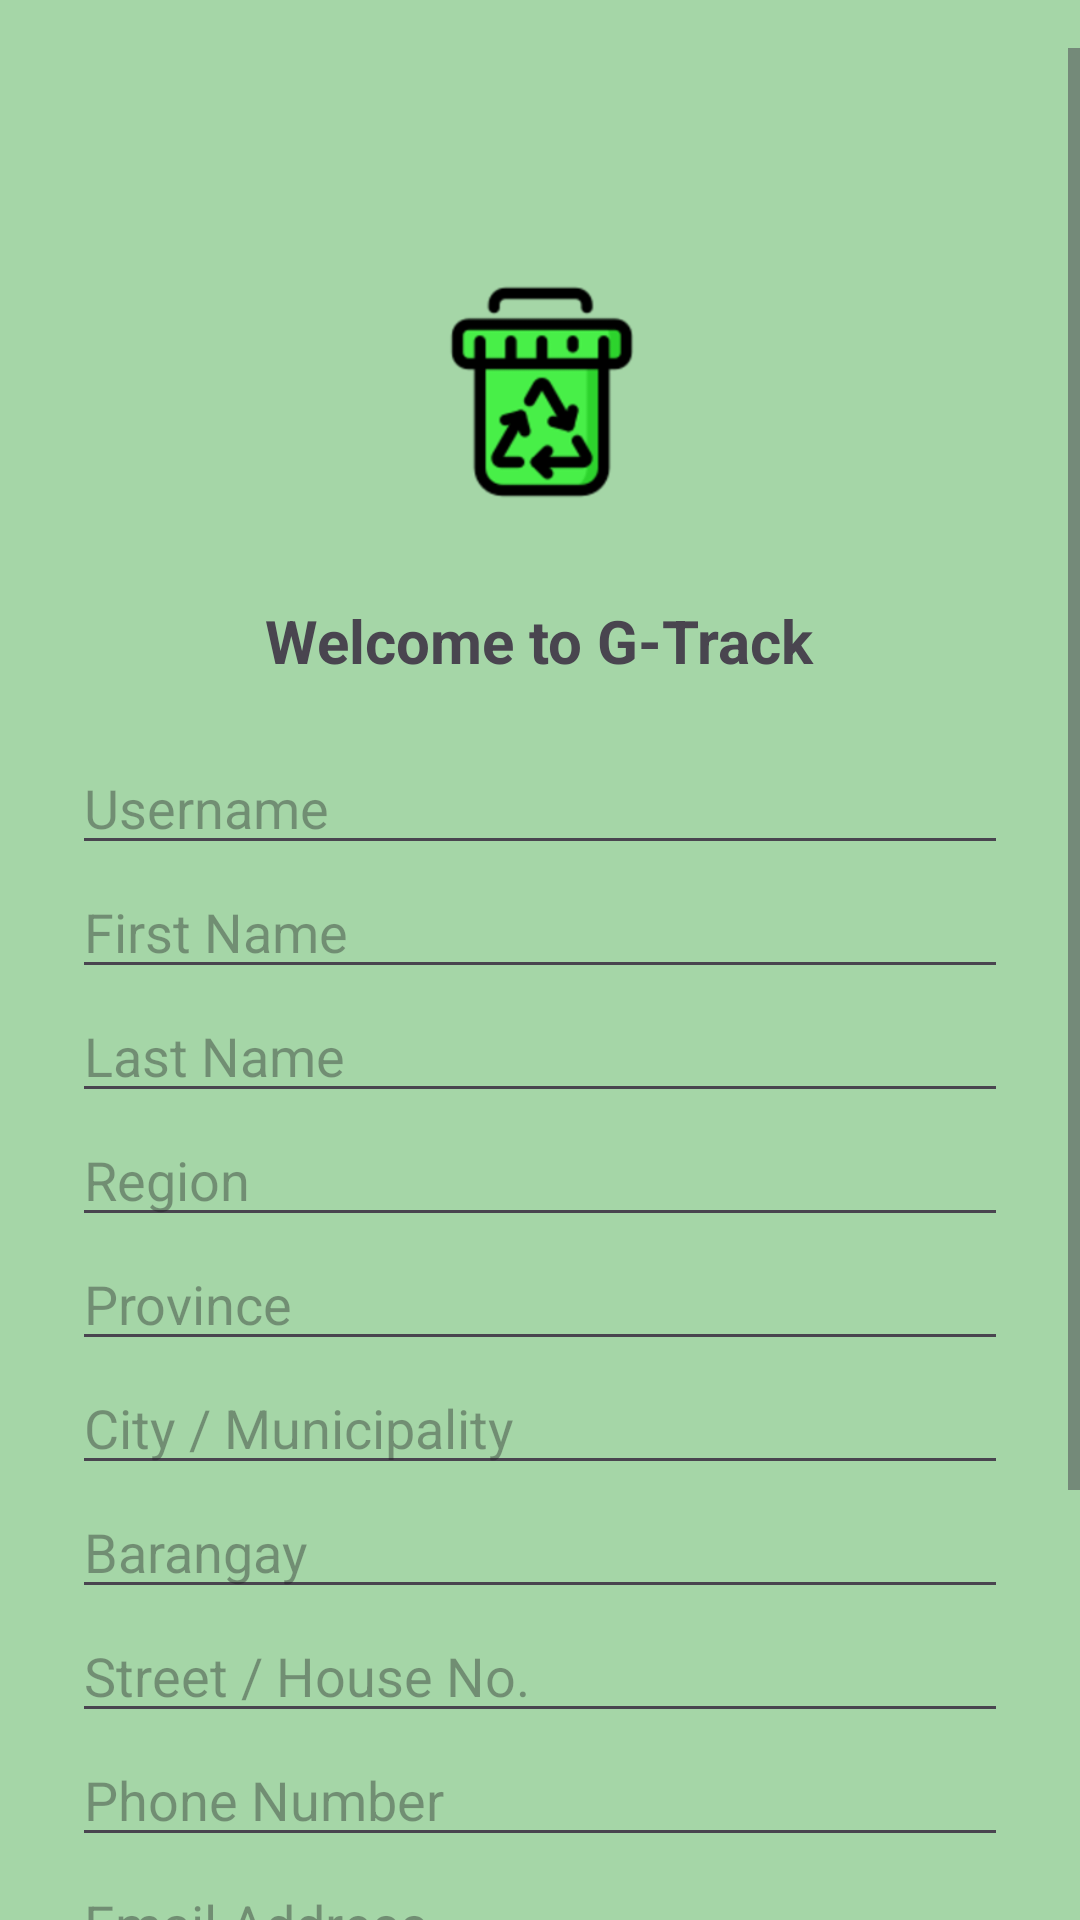

Screen size 1080 x 1920. Icon name, then its center in pixels as (x,y):
trash can: (542,392)
